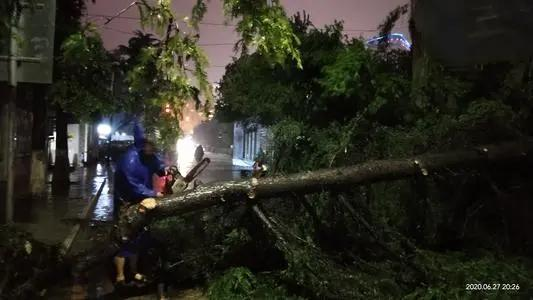Downstairs: (135, 98, 533, 290)
